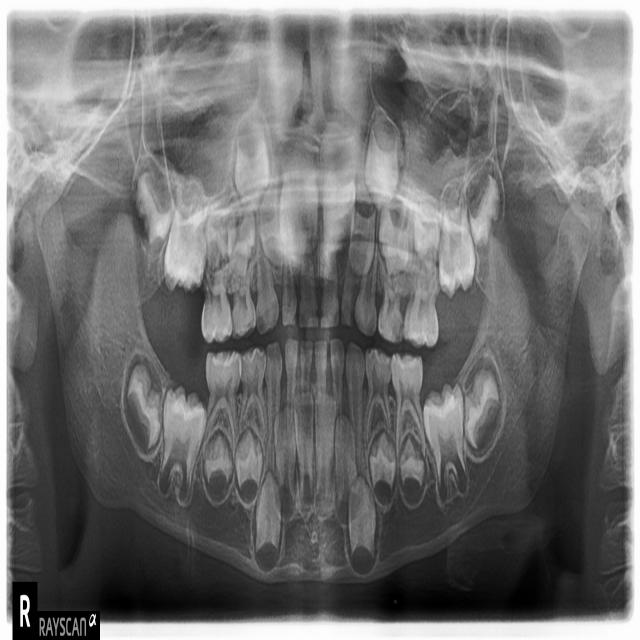mandibula: (36, 176, 590, 588)
